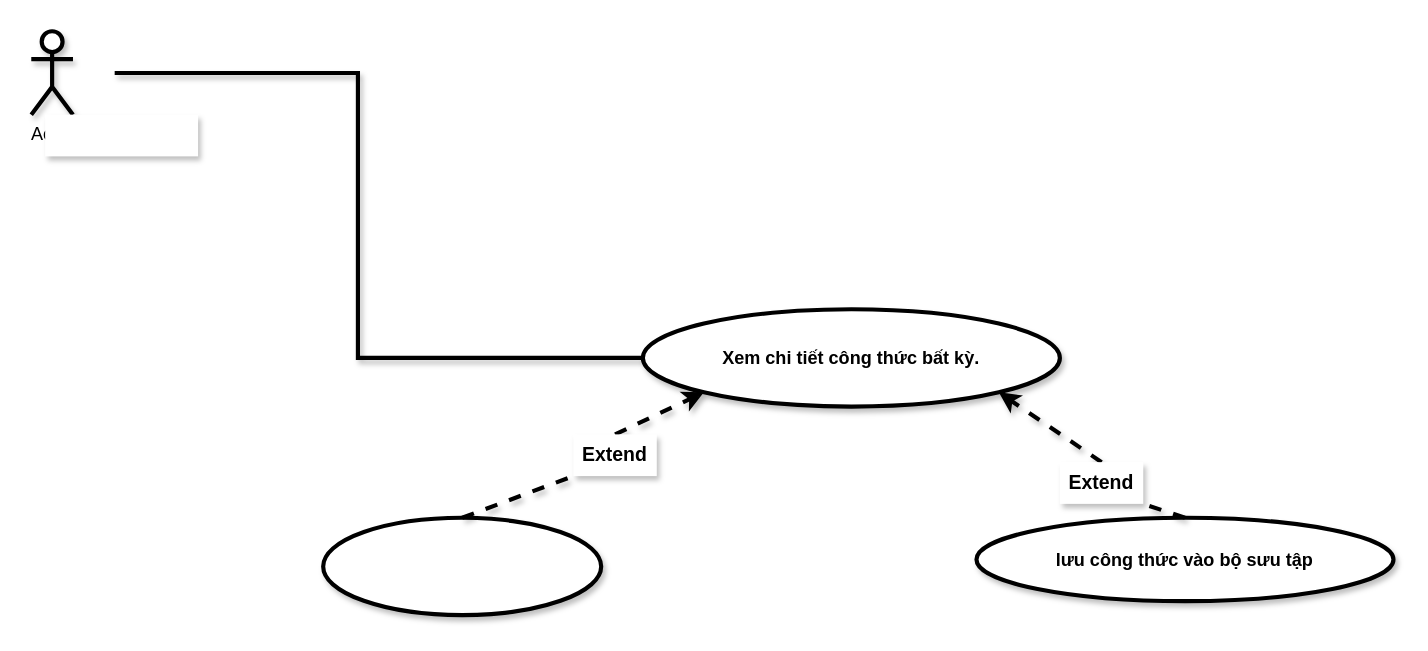
This 1428x651 diagram has some shape labels left out. The centre of each missing label's shape, as x and y in pixels:
gim công thức: the point at 463,567
khách hàng: the point at 122,136
